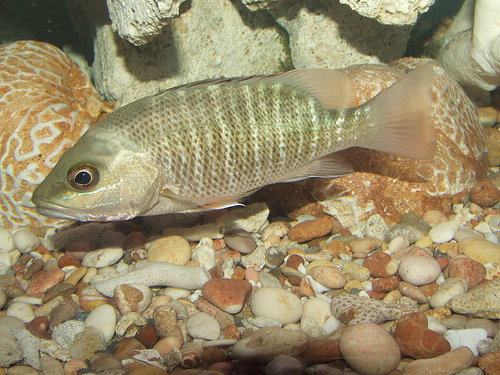fish: (31, 62, 437, 222)
